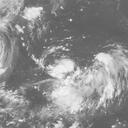cyclone: (45, 58, 106, 112)
